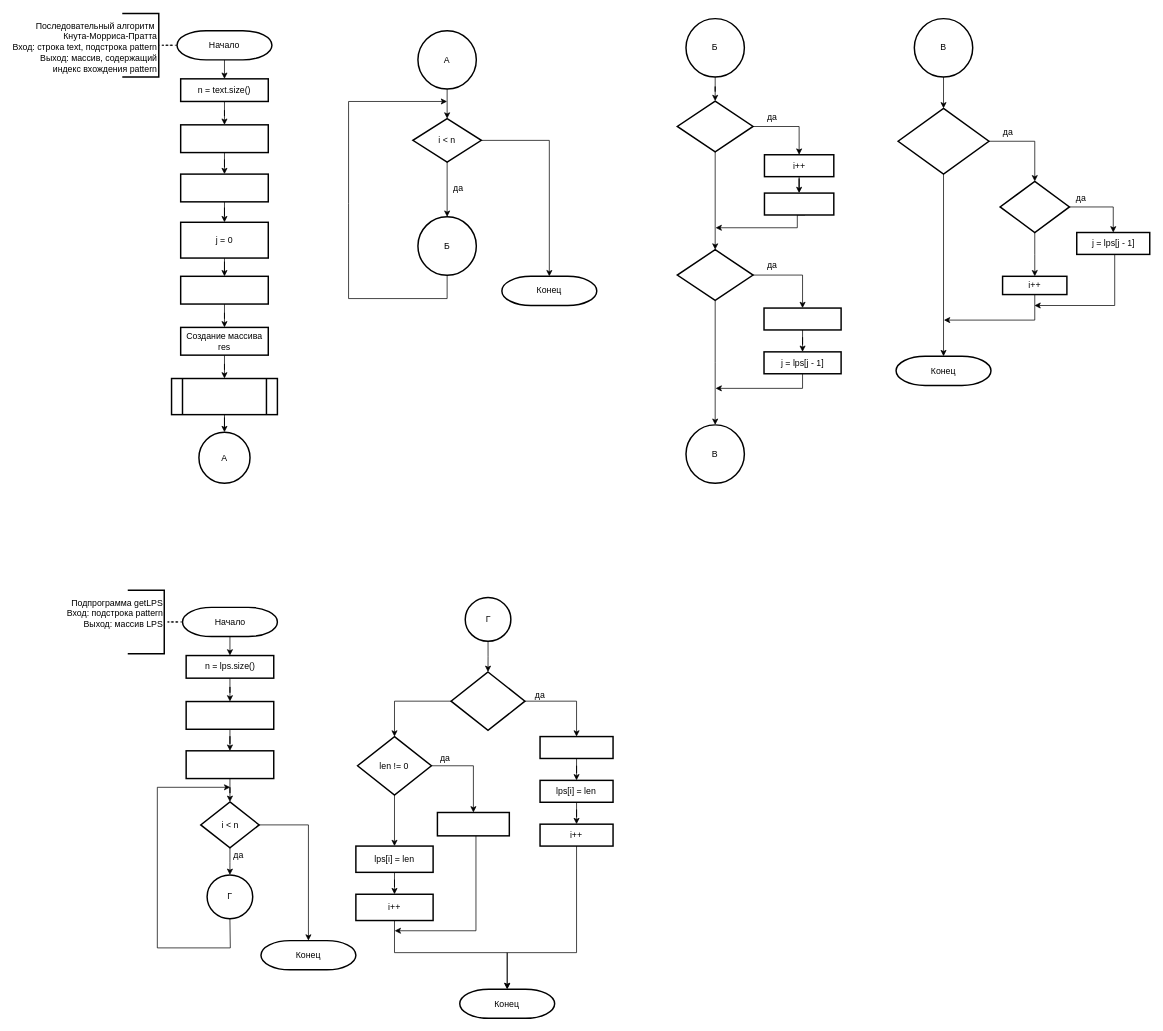
Some shapes in this 1163 by 1031 pixel diagram are drawn without their labels. Each missing label, with the centre of its shape:
"getLPS(pattern, lps)" belongs at [224,396].
"i < n && patt[j] != text[i]" belongs at [943,140].
"i = 0" belongs at [224,187].
"j != 0" belongs at [1034,206].
"j = m" belongs at [714,275].
"j++" belongs at [798,203].
"len = 0" belongs at [229,715].
"len = lps[len -1]" belongs at [473,823].
"len++" belongs at [576,747].
"m = pattern.size()" belongs at [224,138].
"n = 1" belongs at [229,764].
"pat[i] = pat[len]" belongs at [487,701].
"patt[j] = text[i]" belongs at [714,126].
"res.push_back(i - j)" belongs at [802,318].
"Создание массива lps длиной m" belongs at [224,289].
